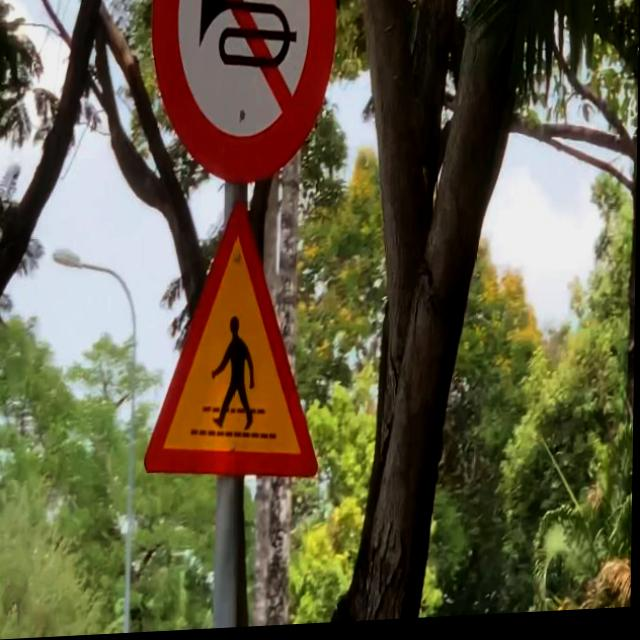Nguoi di bo cat ngang: (140, 187, 332, 491)
